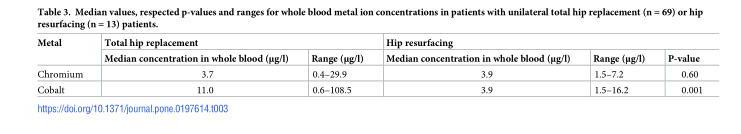table: (36, 37, 702, 94)
table column: (92, 37, 299, 94), (373, 37, 580, 94), (580, 37, 655, 94), (299, 37, 373, 94), (36, 37, 92, 94), (655, 37, 702, 94)
table column header: (36, 37, 702, 66)
table row: (36, 49, 702, 66), (36, 66, 702, 81), (36, 81, 702, 94), (36, 37, 702, 49)
table spanning cell: (373, 37, 702, 49), (92, 37, 373, 49), (36, 37, 92, 66)
